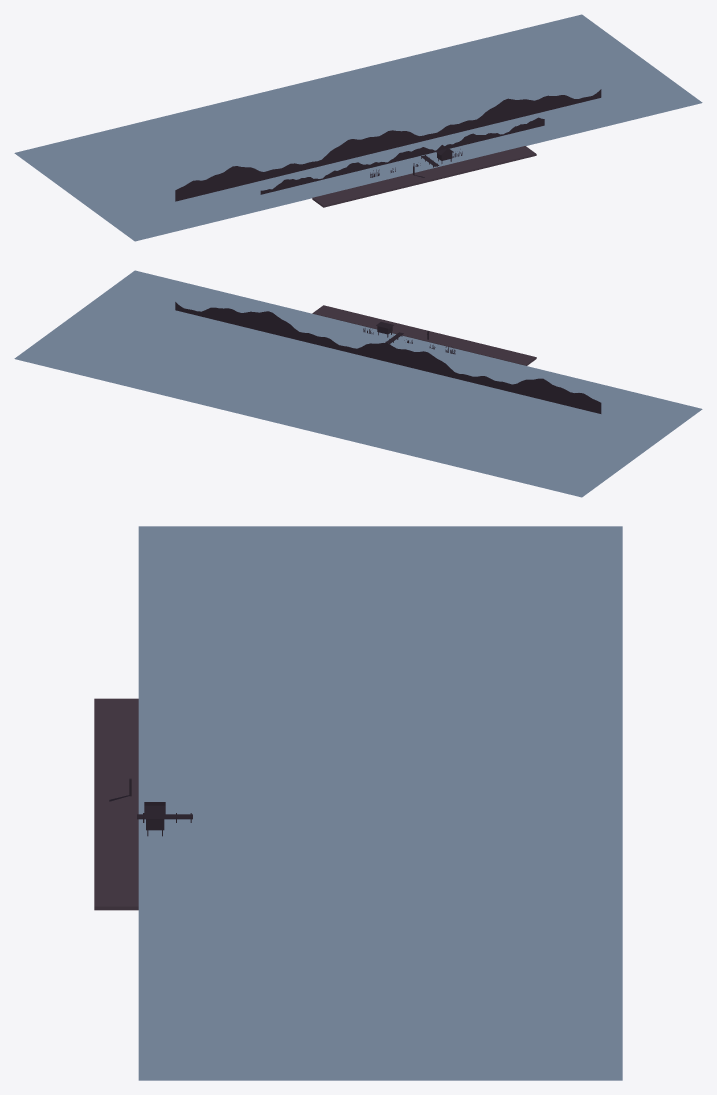
The model's file is waters-edge.glb.
3 renders of one model, top to bottom at view 1: azimuth 30°, elevation 25°; view 2: azimuth 150°, elevation 25°; view 3: azimuth 270°, elevation 25°, orthographic. The views are drawn at different scales.
Visible parts, largest first — view 1: water, rank-far, ground, rank-mid; view 2: water, rank-far, ground; view 3: water, ground.
Part boxes in pixels (bbox=[...]): water: bbox=[14, 14, 702, 241]; rank-far: bbox=[175, 89, 601, 201]; ground: bbox=[312, 146, 536, 207]; rank-mid: bbox=[260, 117, 544, 194]; water: bbox=[14, 270, 702, 497]; rank-far: bbox=[175, 302, 601, 413]; ground: bbox=[312, 305, 536, 365]; water: bbox=[138, 526, 622, 1080]; ground: bbox=[94, 698, 138, 910].
Size of the model in its own units: 160 by 6.75 by 64.4.
